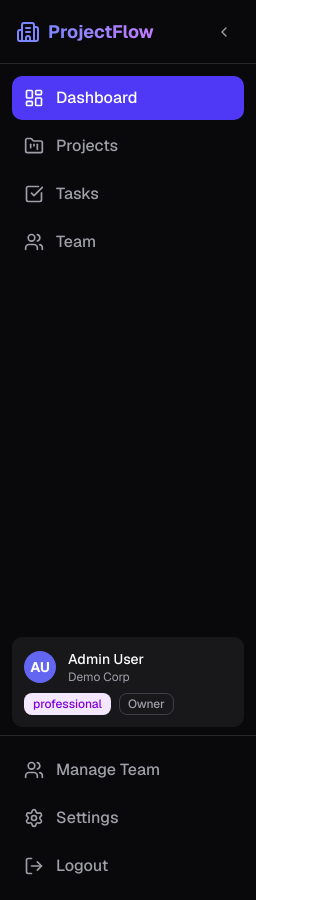
Scenario: Sidebar › collapses when toggle is clicked
Expected: the heading "ProjectFlow" is shown, top-left (48, 18), bottom-right (154, 46)
Click the 1st button at (224, 32), box top-left (208, 16), bottom-right (240, 48)
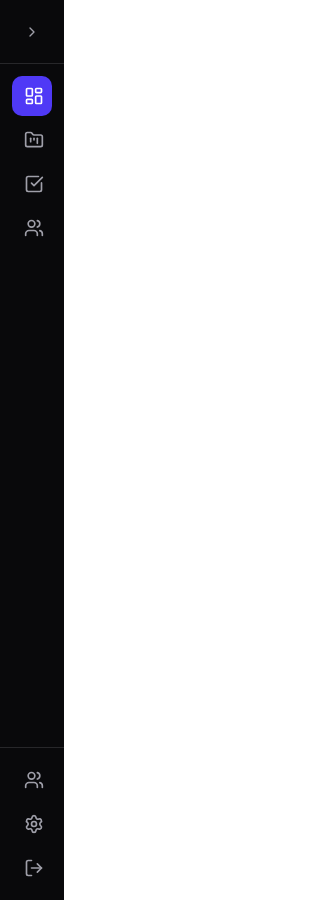
Result: the heading "ProjectFlow" is gone
Result: the text "Dashboard" is gone
